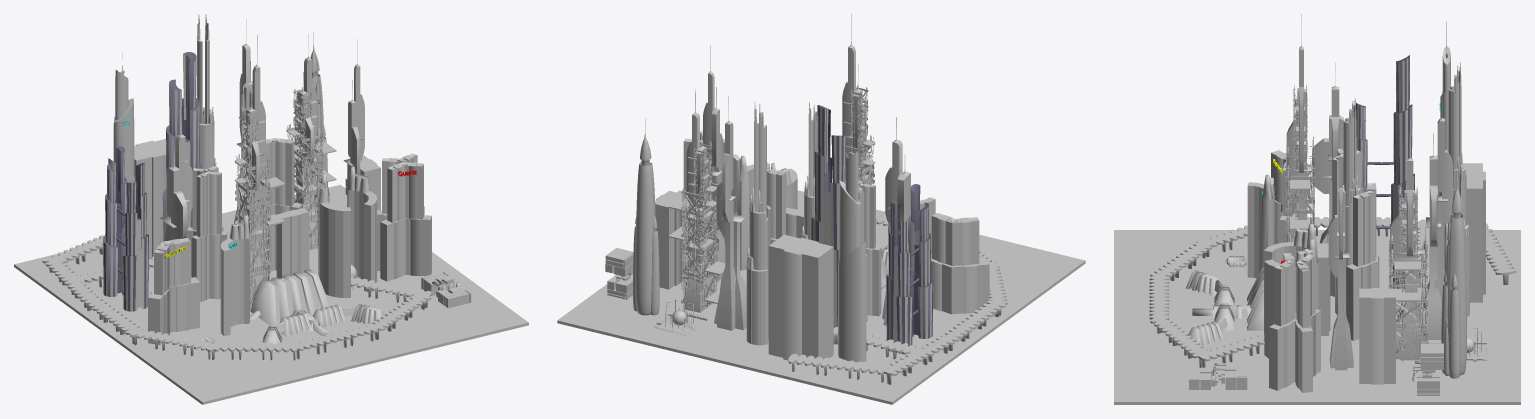
Rendered from Scifi downtown city.obj.
3 renders of one model, left to right at view 1: azimuth 30°, elevation 25°; view 2: azimuth 150°, elevation 25°; view 3: azimuth 270°, elevation 25°, orthographic. The views are drawn at different scales.
Visible parts, largest first — view 1: object 2, mesh01, Form22, Form24, Form7, Form13; view 2: object 2, mesh01, Form22, Form24, Form13, Form7; view 3: object 2, mesh01, Form7, Form13, Form22, Form24.
Boxes of the visible parts, x1,y1,x2,y2 form: object 2: (14, 14, 528, 404); mesh01: (42, 46, 431, 360); Form22: (103, 146, 148, 311); Form24: (103, 152, 147, 311); Form7: (162, 52, 203, 241); Form13: (162, 54, 199, 241); object 2: (557, 14, 1085, 404); mesh01: (668, 47, 1007, 384); Form22: (886, 184, 933, 353); Form24: (886, 189, 933, 353); Form13: (811, 105, 845, 327); Form7: (811, 105, 845, 326); object 2: (1114, 14, 1520, 404); mesh01: (1149, 49, 1516, 370); Form7: (1391, 55, 1414, 288); Form13: (1391, 56, 1414, 288); Form22: (1356, 103, 1393, 229); Form24: (1356, 104, 1367, 192).
Bounding box in the file's own units: 250 × 209 × 250.
